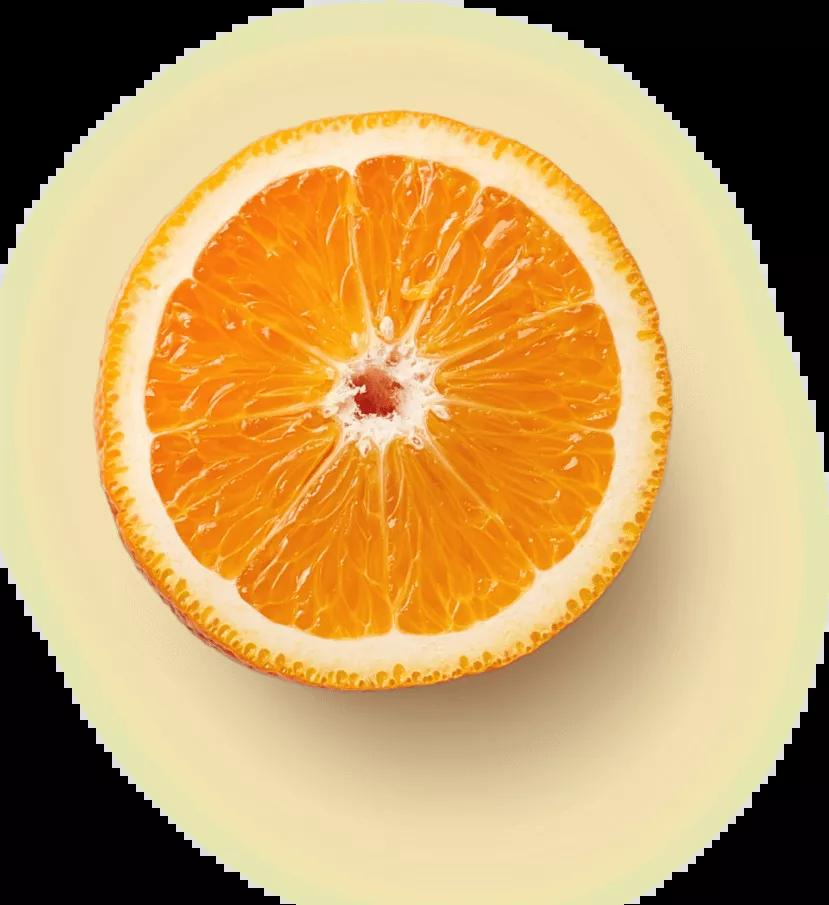non-mango: (92, 108, 673, 691)
